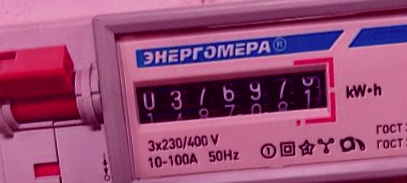0: (141, 87, 159, 111)
1: (303, 86, 314, 109)
3: (169, 87, 185, 110)
6: (221, 78, 238, 102)
7: (275, 73, 291, 98), (195, 82, 211, 106)
9: (248, 77, 264, 100)
screen: (124, 51, 344, 145)
